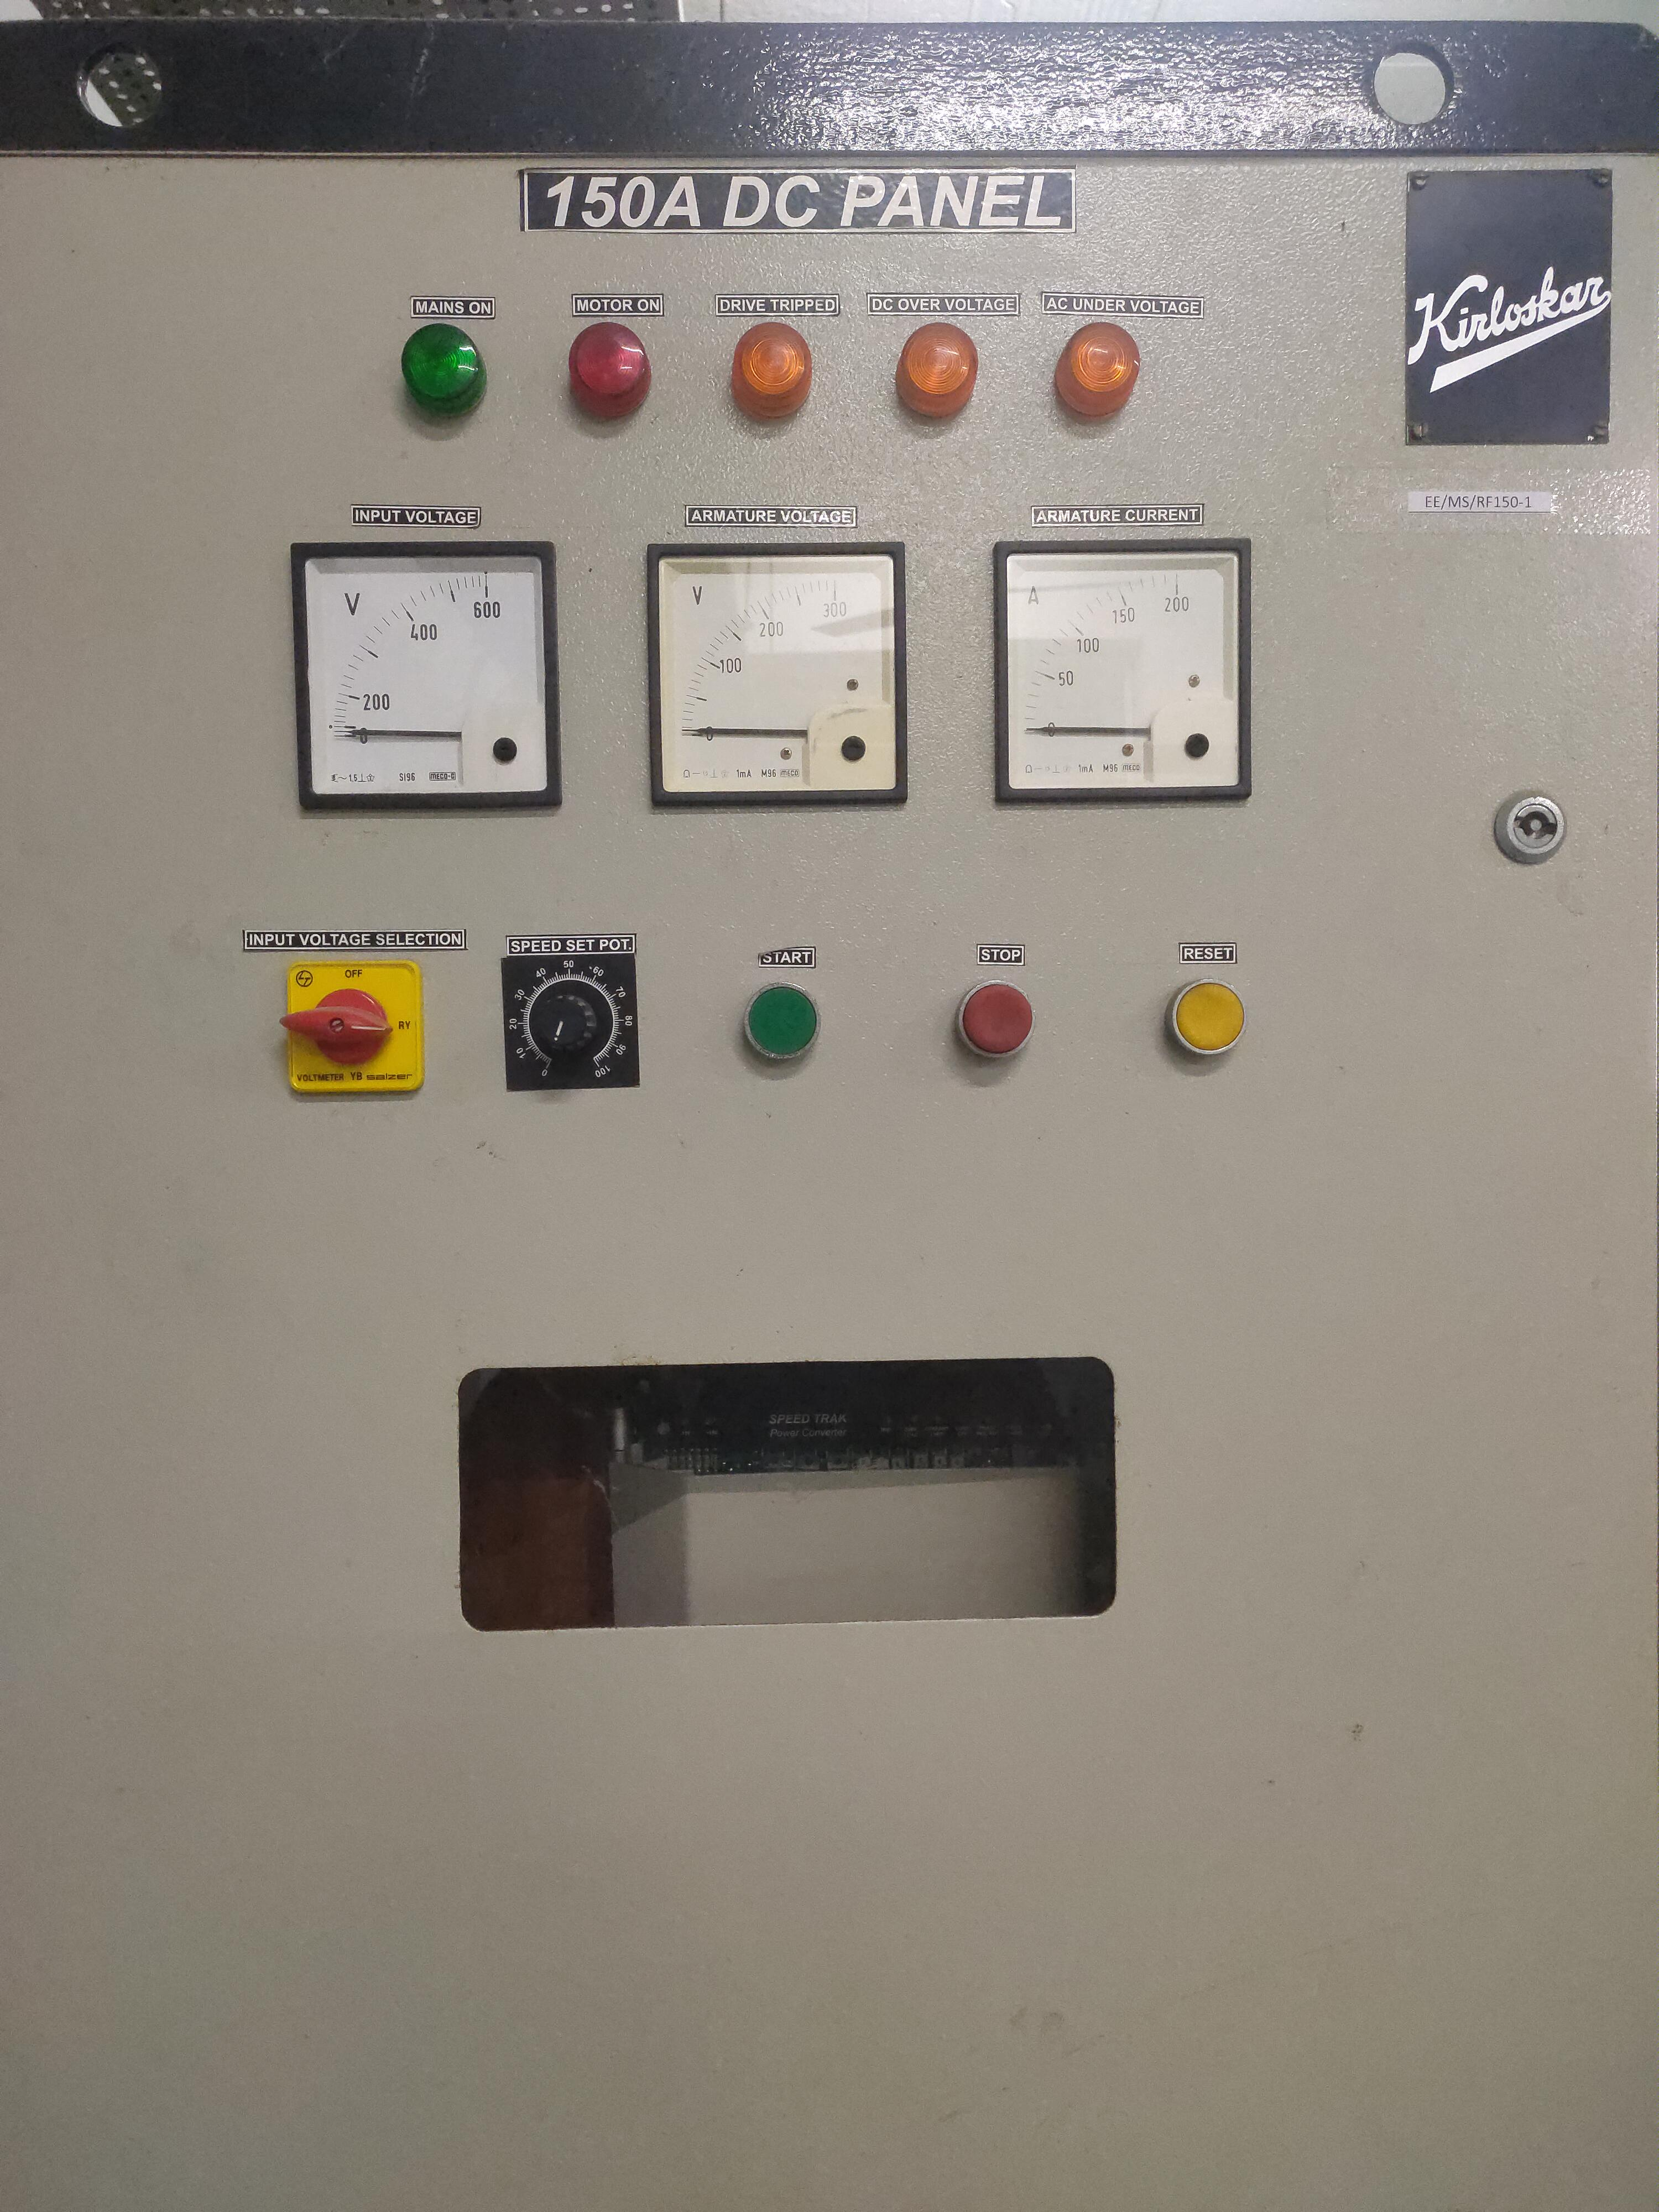Light Indications: (349, 256, 1236, 484)
